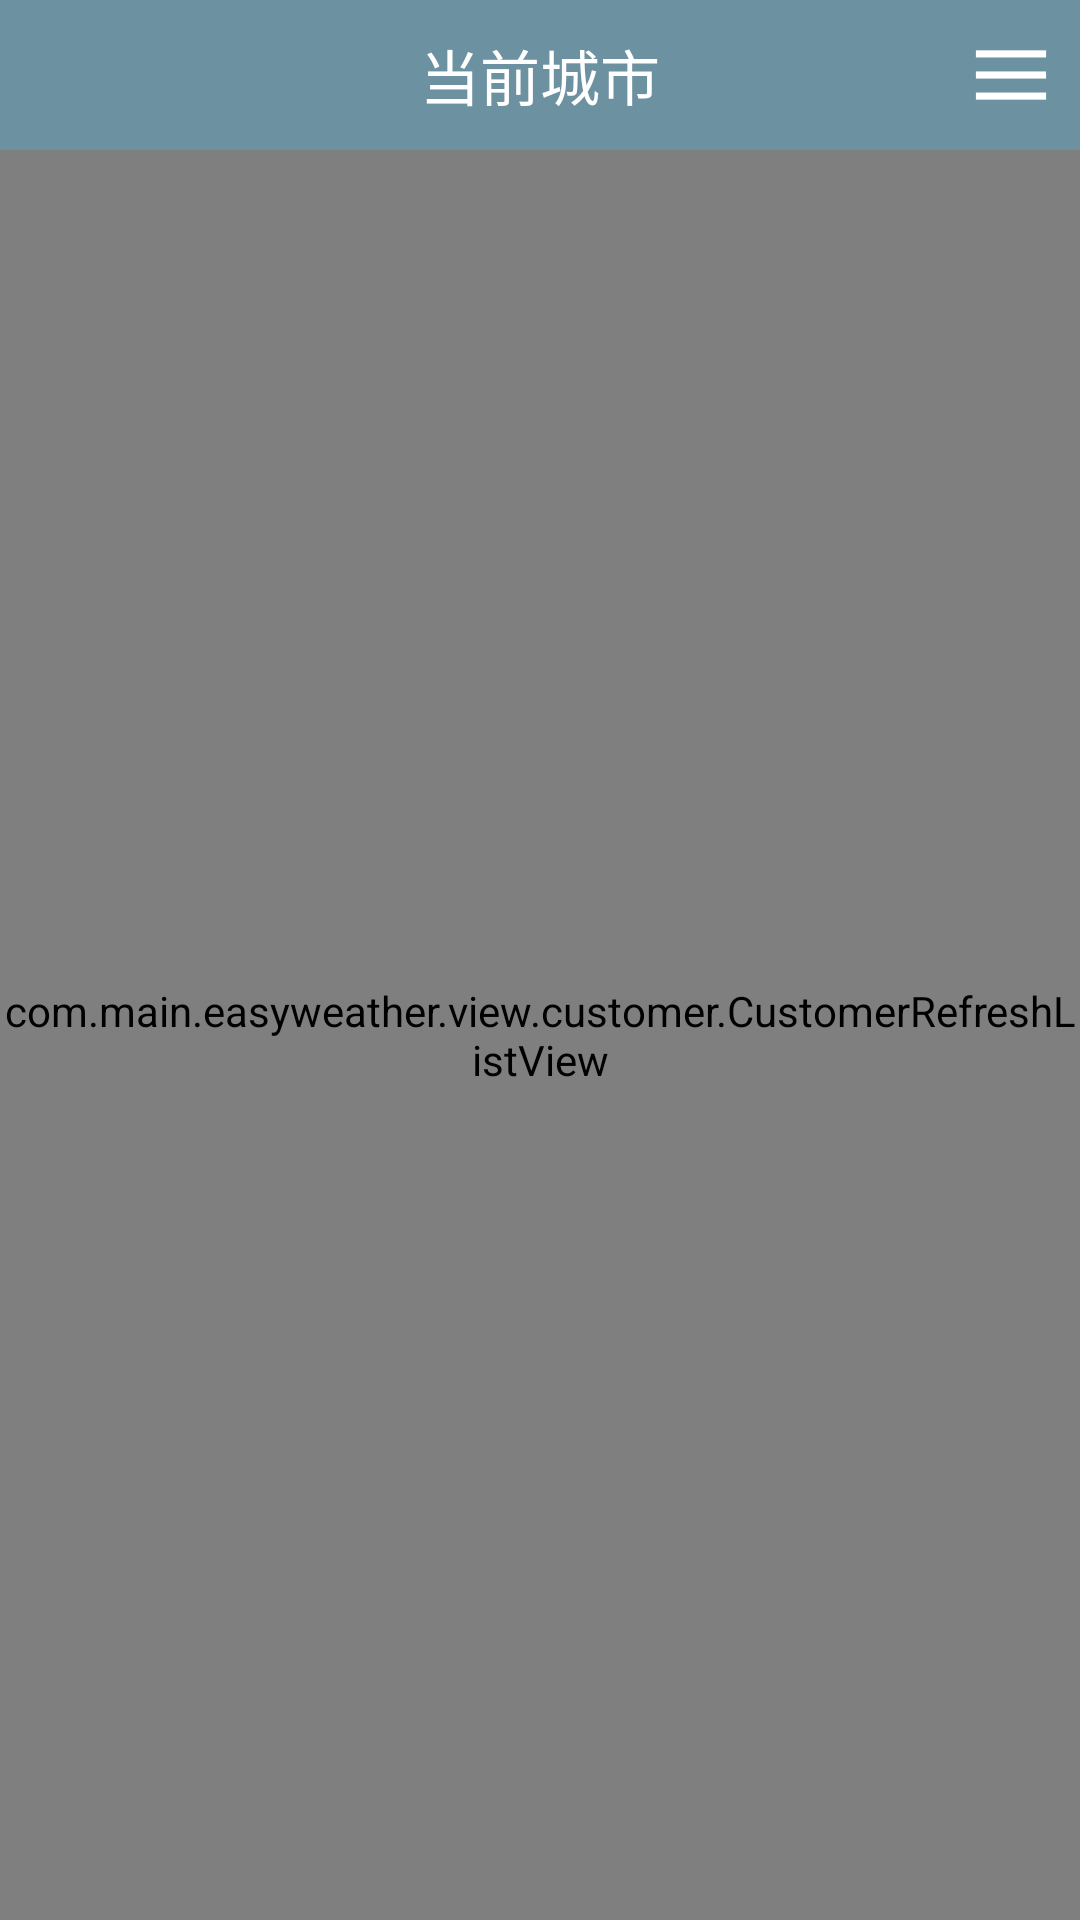

Screen size 1080*1920. Icon name, then its box in pixels as [x1, y1, x2, y2]:
menu: [976, 50, 1046, 100]
